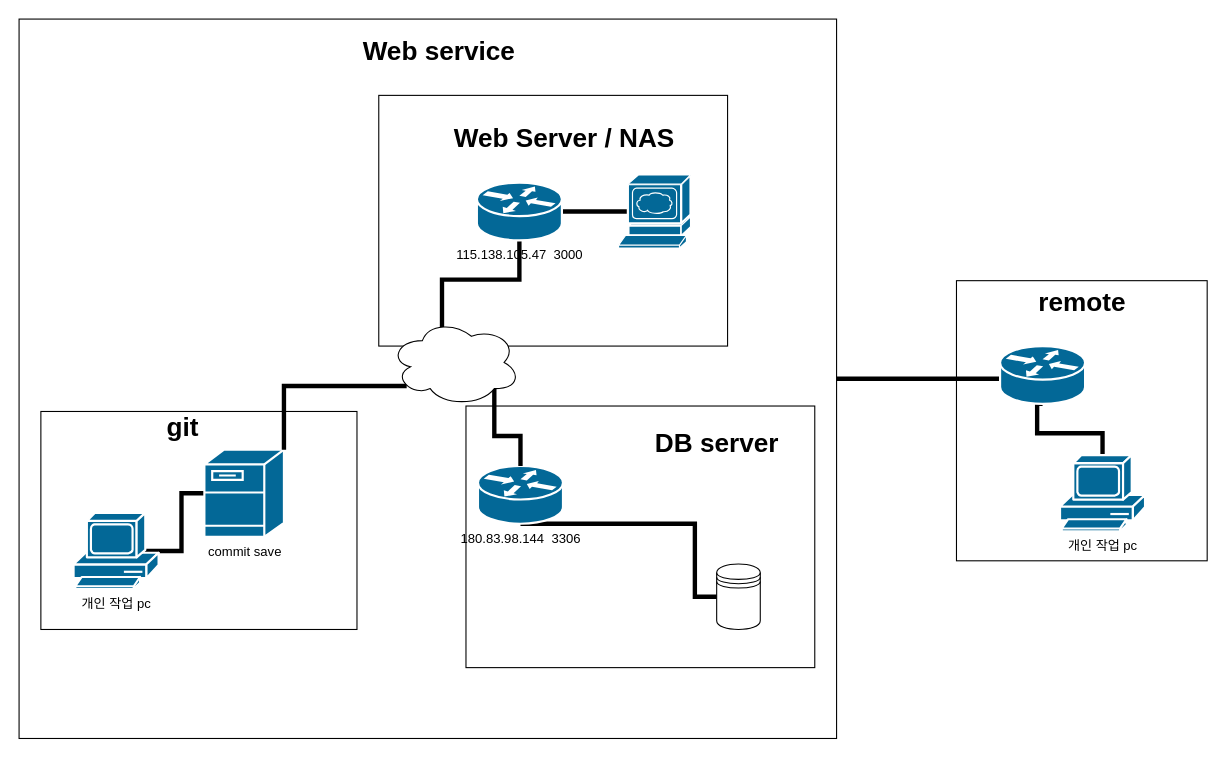
This 1226x758 diagram has some shape labels left out. Each missing label, with the centre of its shape:
"database" goes at (x=738, y=596).
"Internet" goes at (x=454, y=362).
"node.js web server" goes at (x=654, y=211).
